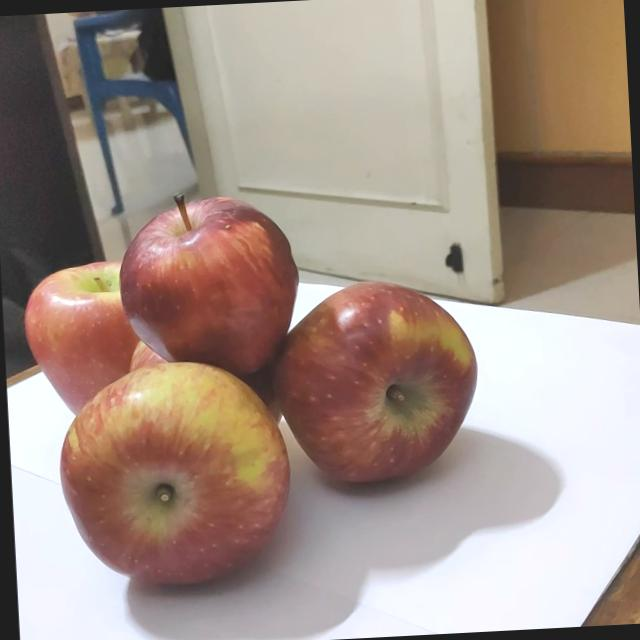apple: (260, 254, 506, 514), (80, 378, 276, 582), (114, 184, 304, 378), (1, 236, 176, 411)
